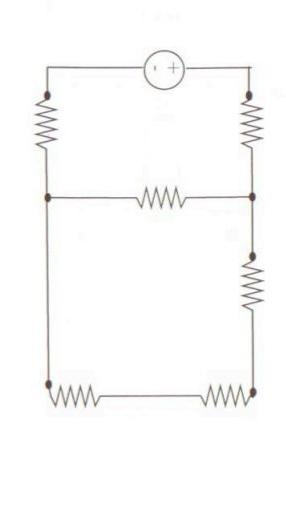resistor: (40, 371, 119, 424), (113, 173, 202, 218), (25, 85, 65, 155), (189, 372, 257, 413), (233, 82, 268, 159)
